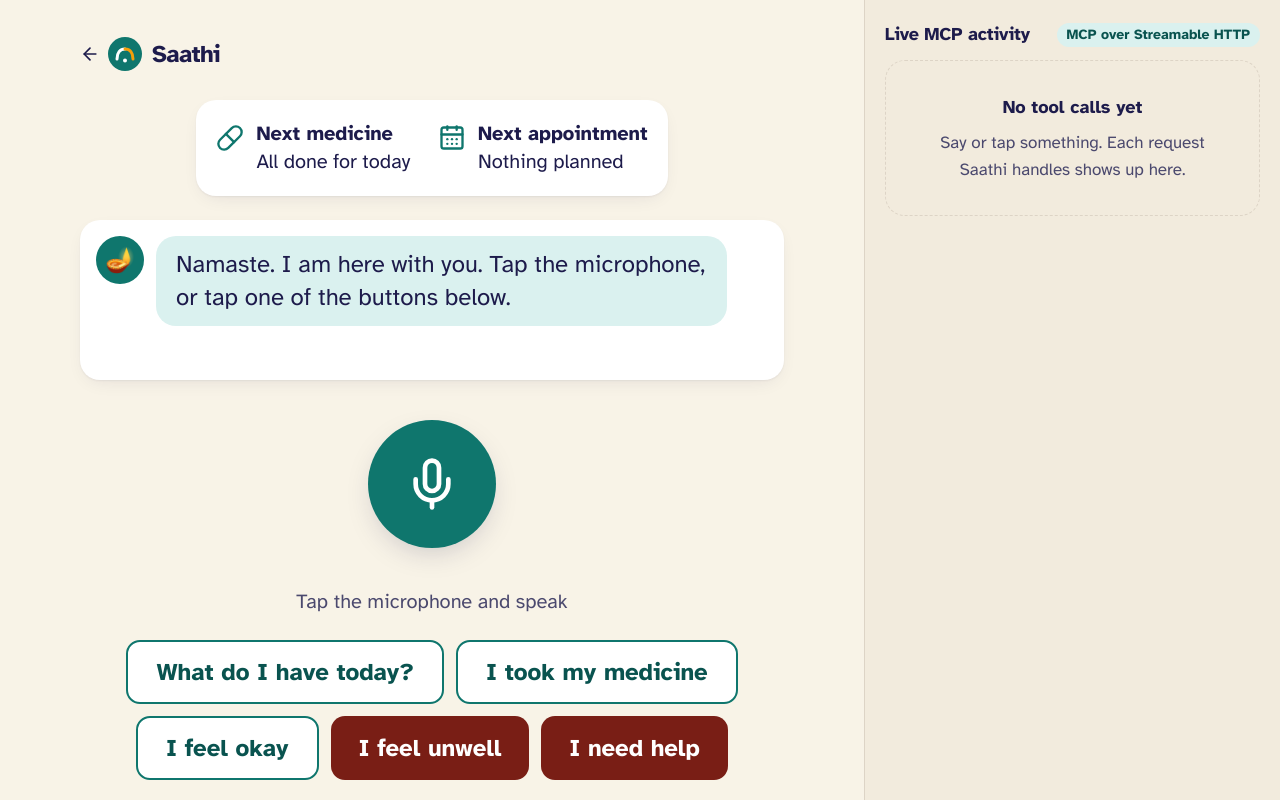
Test: ElderPage › tapping a quick action sends it to the simulator chat endpoint and shows the reply
What coordinates should you click on to do the following:
click the button "I feel unwell"
I would click on:
 (430, 748)
Its box is [330,716,529,780].
(page scrolled)
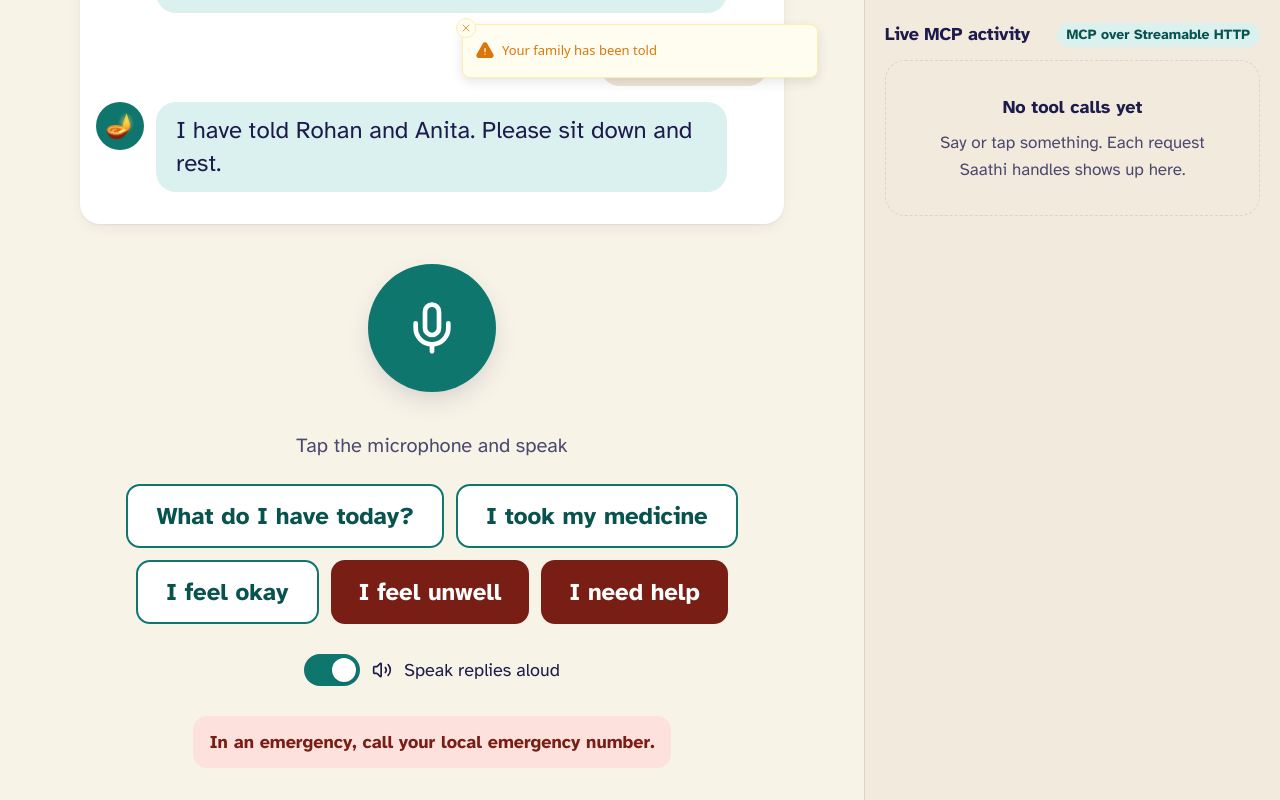
expect the text "In an emergency, call your local emergency number." is shown: met, box [193,716,671,768]
expect the text "I have told Rohan and Anita. Please sit down and rest." is shown: met, box [156,102,727,192]
